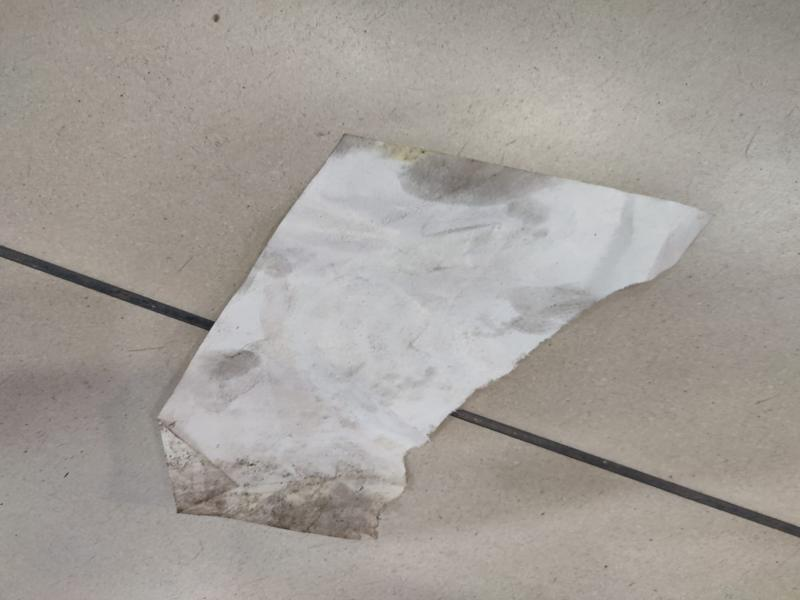papel: (154, 135, 712, 542)
